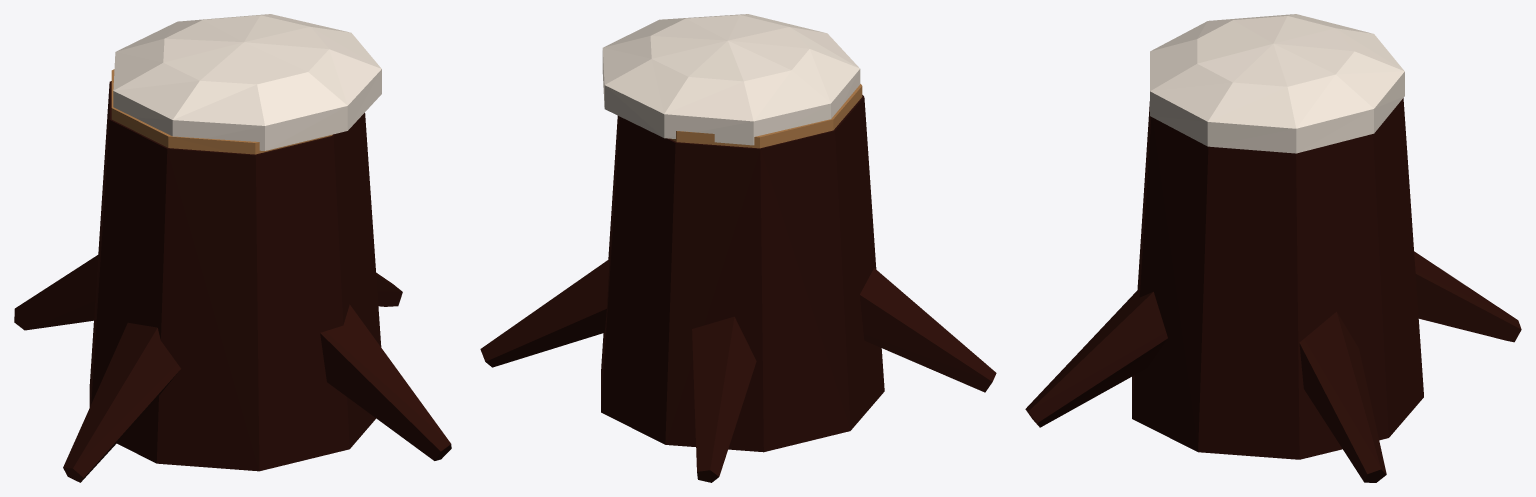
Rendered from rs_stump.glb.
3 views of the same model, side by side, from view 1: azimuth 30°, elevation 25°; view 2: azimuth 150°, elevation 25°; view 3: azimuth 270°, elevation 25° (orthographic). The views are drawn at different scales.
Visible parts, largest first — view 1: rs_stump.001; view 2: rs_stump.001; view 3: rs_stump.001.
Part boxes in pixels (x1=…): rs_stump.001: x1=14, y1=14, x2=451, y2=482; rs_stump.001: x1=480, y1=14, x2=996, y2=482; rs_stump.001: x1=1025, y1=14, x2=1521, y2=482.
Bounding box in the file's own units: 1.19 × 0.9456 × 1.19.
